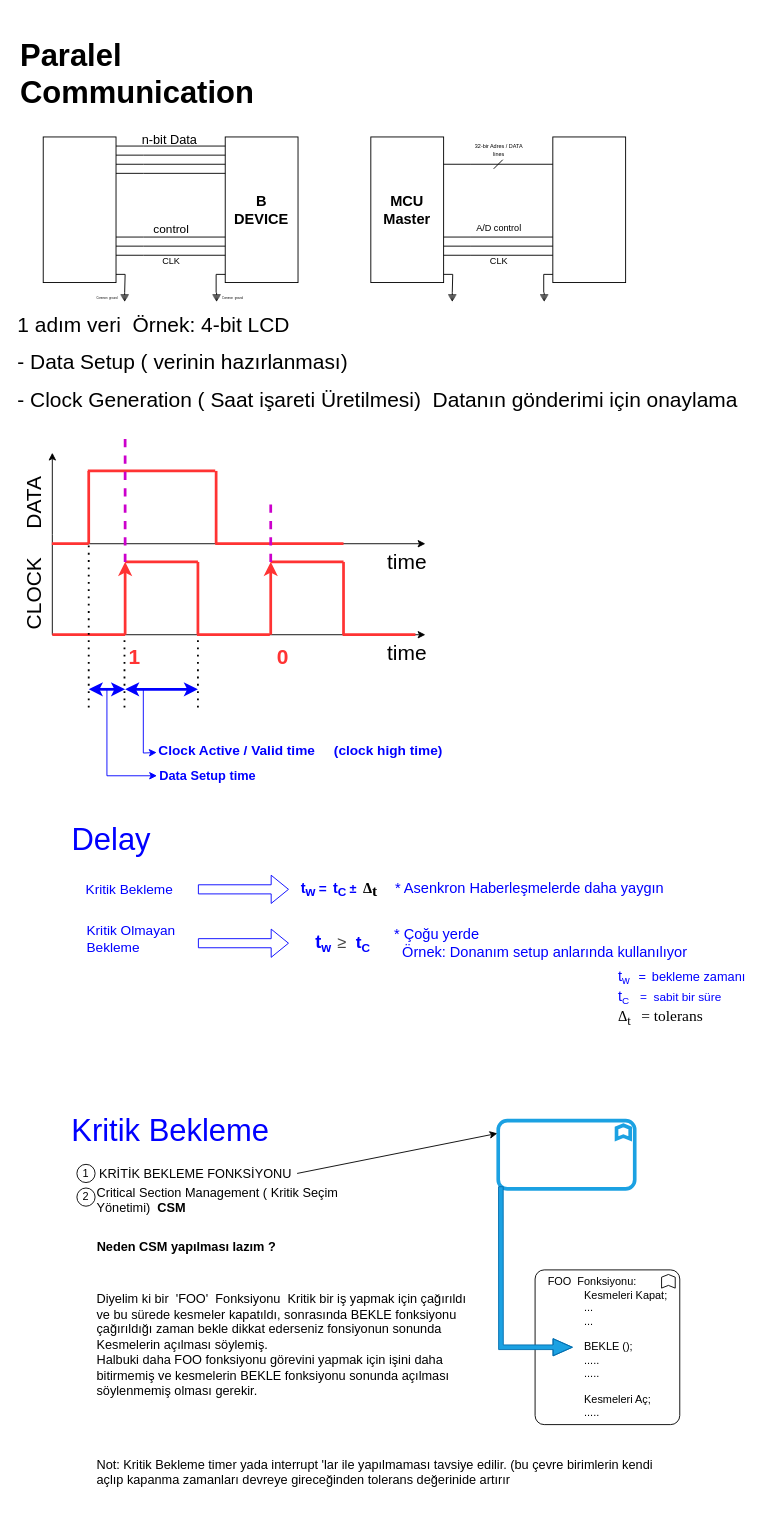
Image size: 776x1523. Some labels were removed from this diagram. The box of each missing label's shape, as (x1, y1, x2, y2) in pixels:
A MCU: (42, 136, 116, 283)
BEKLE: Kesmeleri Kapat; bekle (10); Kesmeleri Aç;: (496, 1118, 636, 1190)
MEMORY Slave: (552, 136, 626, 283)
